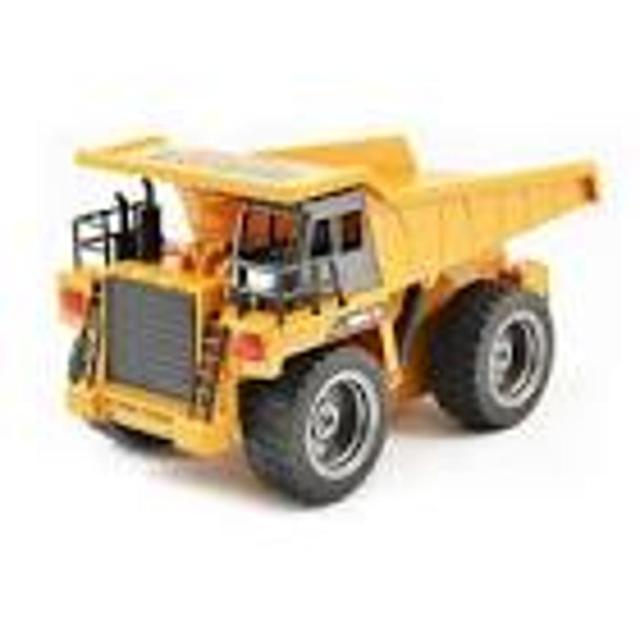dump_truck: (61, 110, 603, 510)
